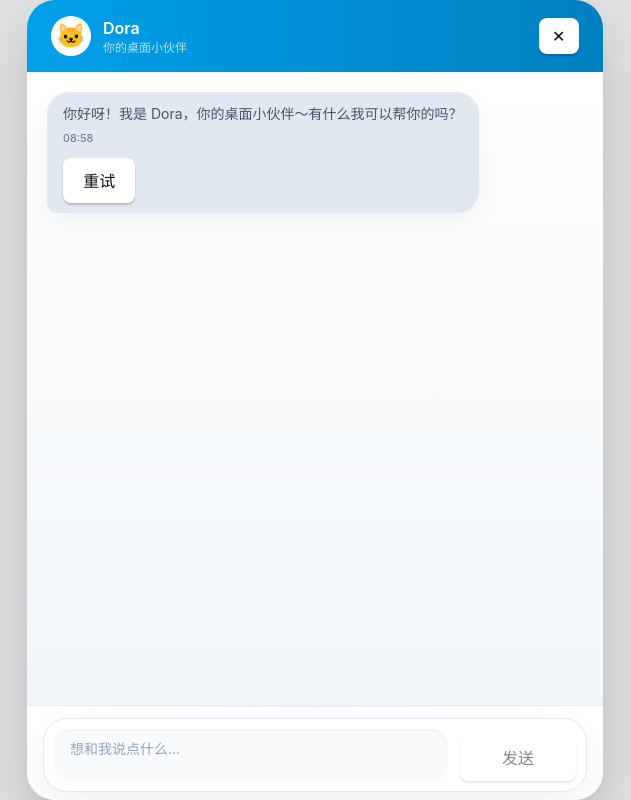
it: ChatWindow › shows loading and appends assistant reply after sending
This screenshot has width=631, height=800.
Expected: the text "你好呀！我是 Dora，你的桌面小伙伴～有什么我可以帮你的吗？" is shown, 63,102 -> 463,126
In the text box named "Dora chat input": {"x": 251, "y": 755} 54,729 -> 448,781, type "你好 Dora"
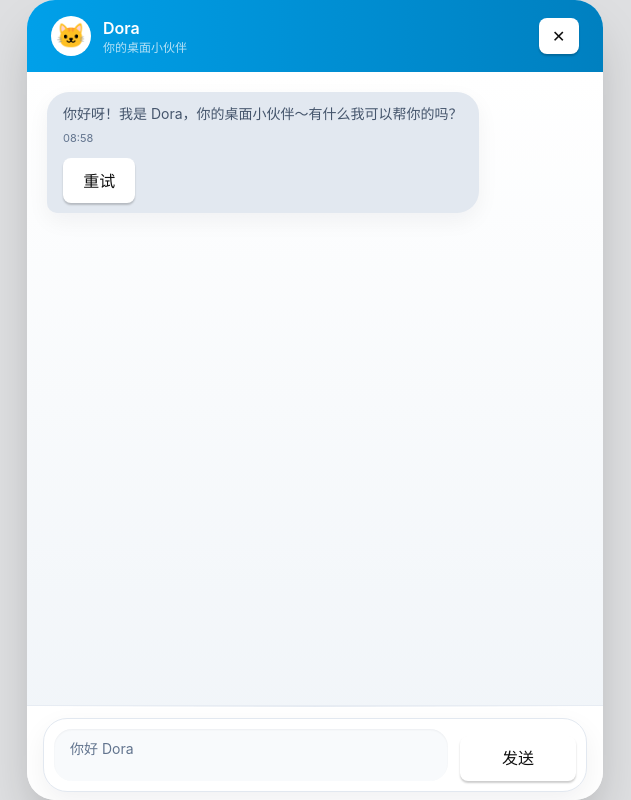
Click the button with aria-label "Send Dora message": {"x": 518, "y": 758} 460,736 -> 576,781
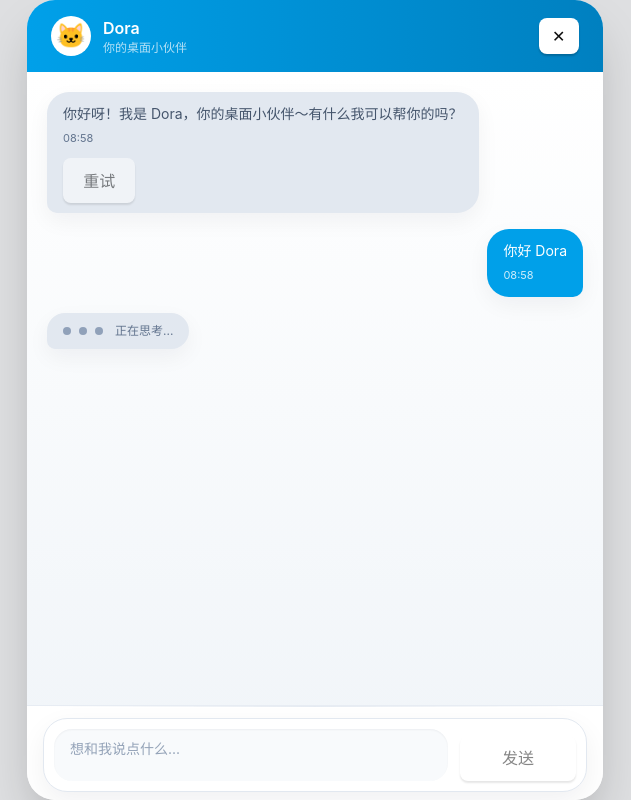
Expected: the text "你好 Dora" is shown, 503,239 -> 567,263
Expected: the text "正在思考..." is shown, 115,323 -> 173,339
Expected: the button with aria-label "Send Dora message" is disabled, 460,736 -> 576,781
